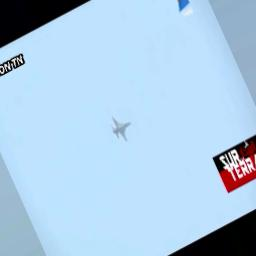Airplane: (109, 114, 134, 143)
